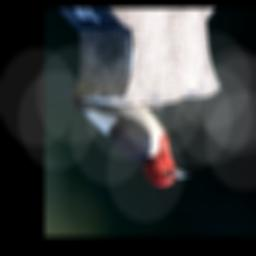Woodpecker: (59, 85, 196, 189)
